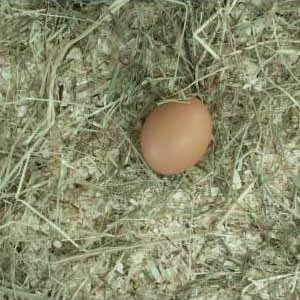egg: (140, 97, 213, 174)
